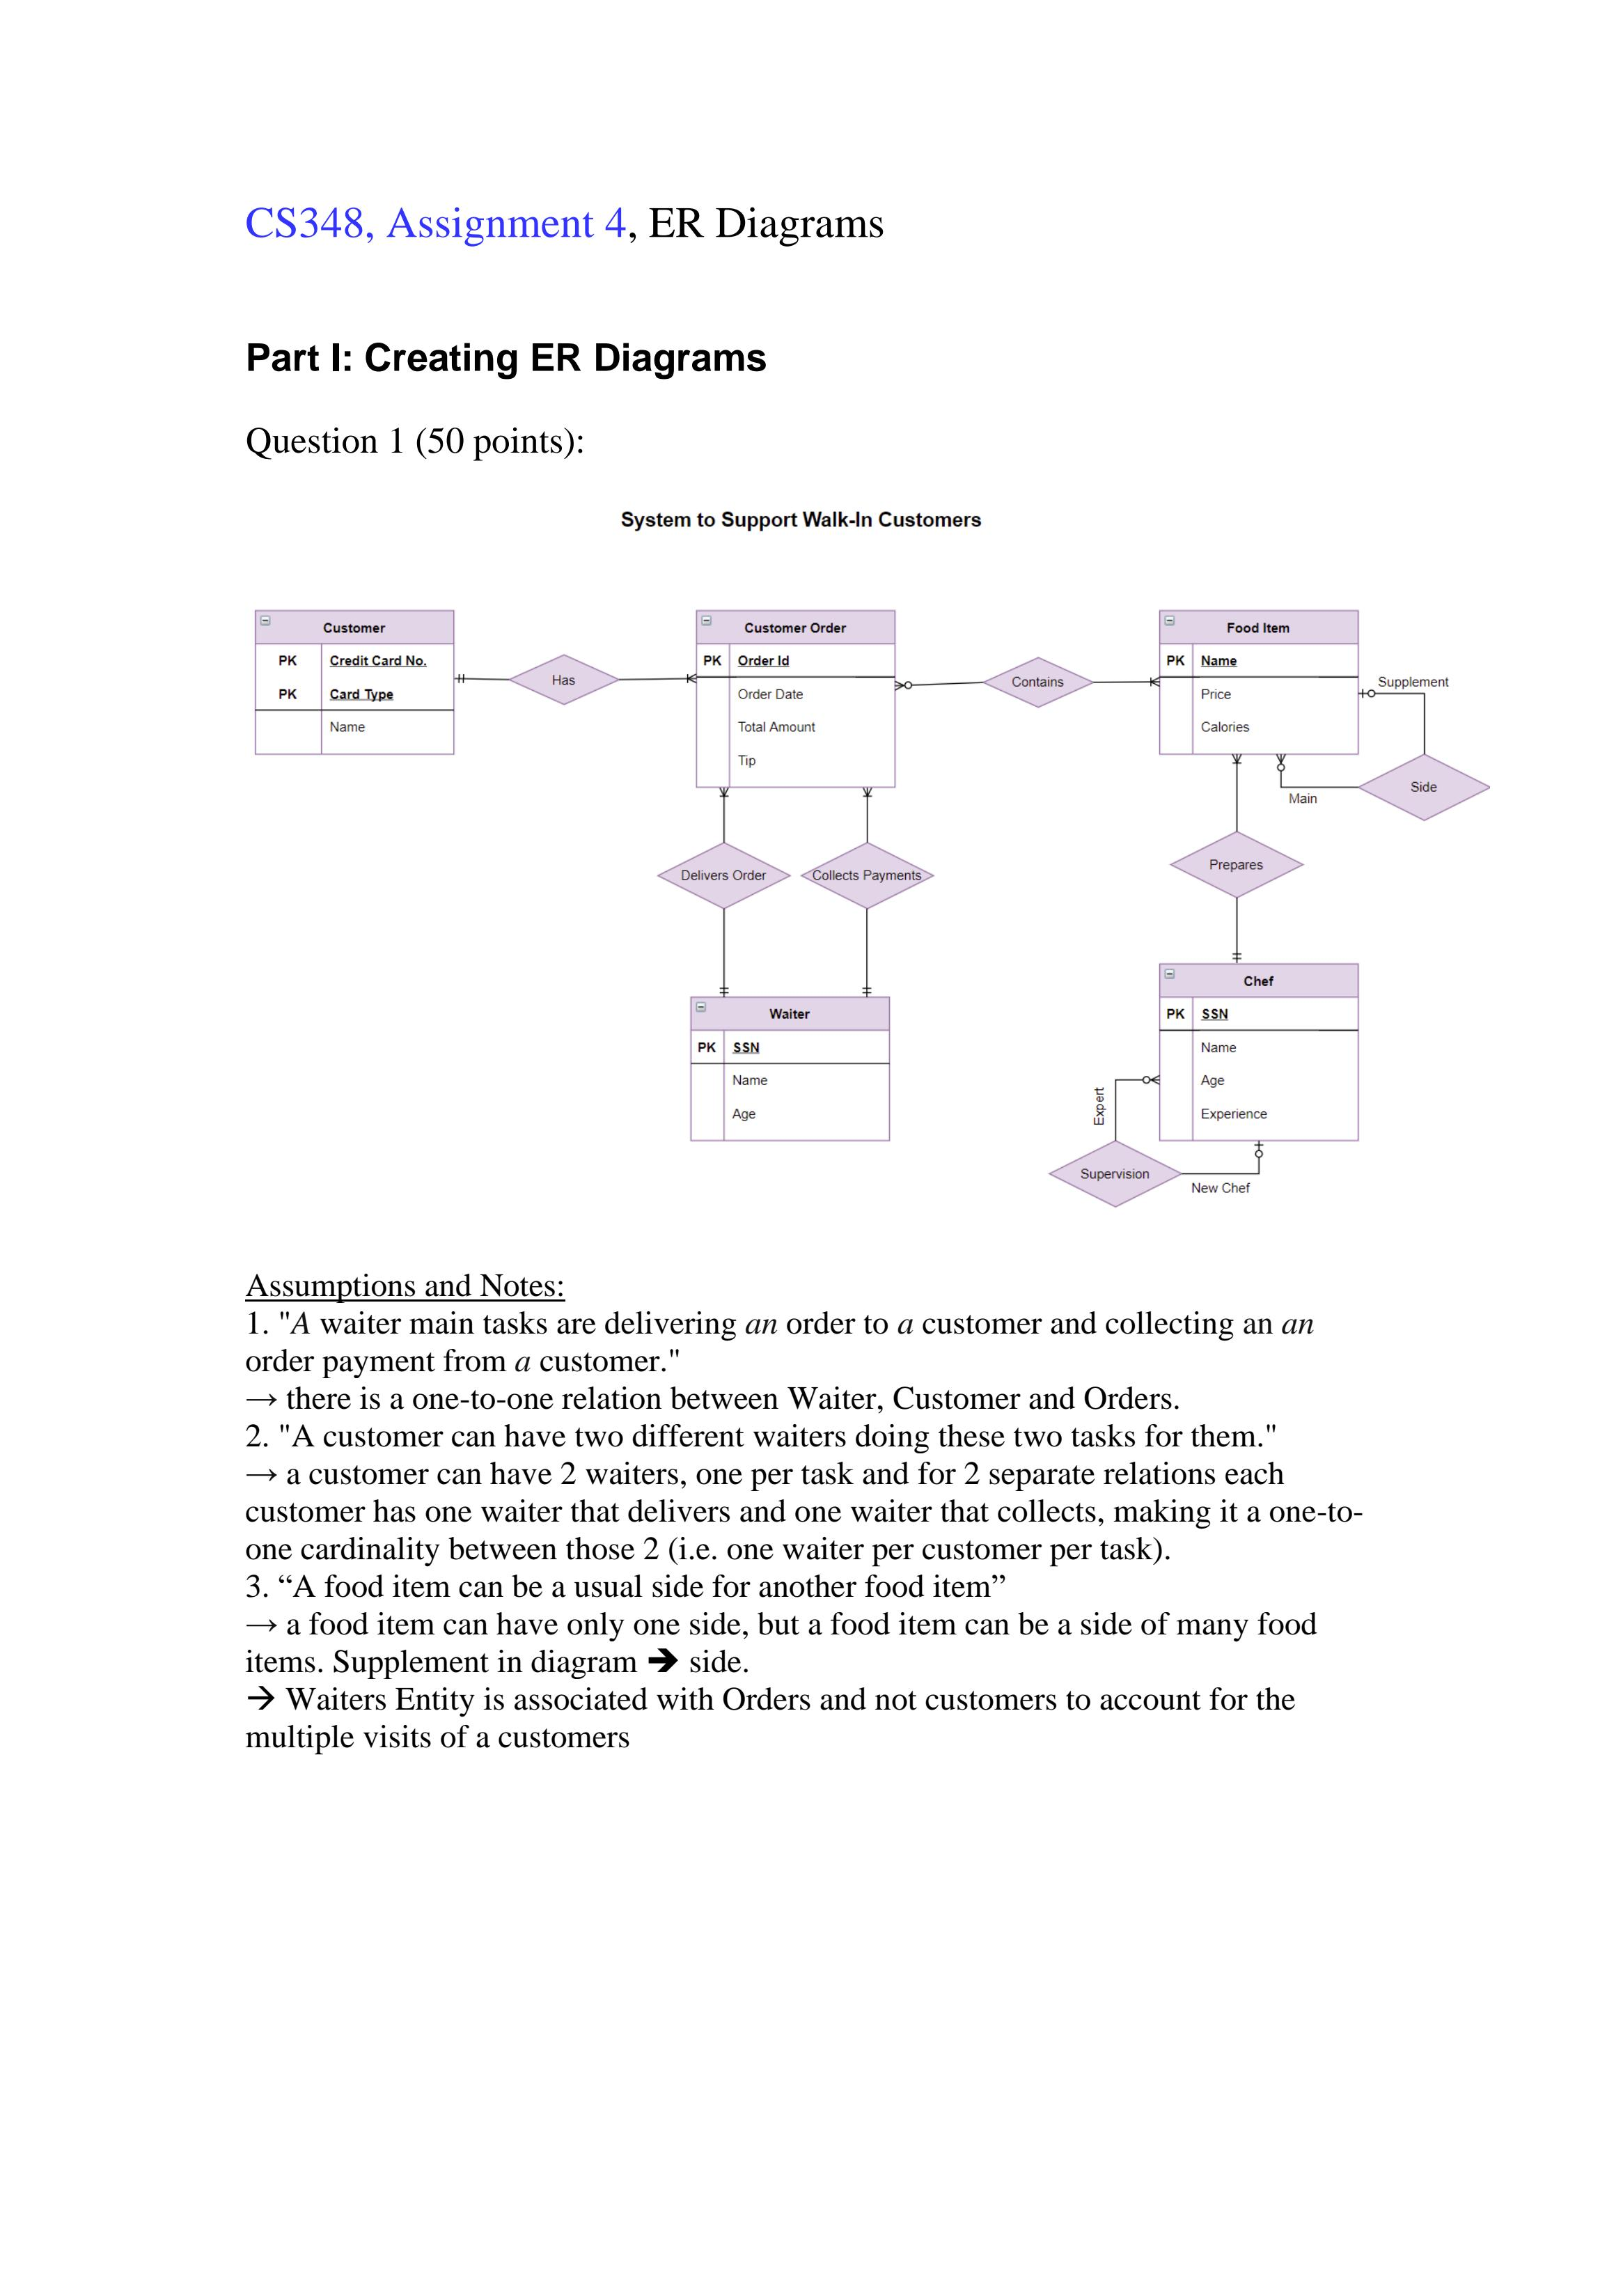Entity: (694, 608, 898, 789), (1158, 961, 1361, 1142), (1158, 608, 1360, 757), (689, 994, 891, 1144), (253, 608, 455, 755)
Relationship: (657, 841, 790, 910), (1170, 831, 1305, 898), (1049, 1140, 1182, 1207), (799, 843, 934, 908), (1358, 755, 1491, 820), (984, 655, 1094, 708), (511, 653, 618, 704)
